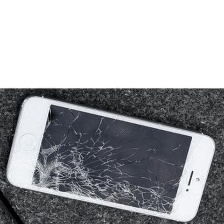phone: (3, 91, 217, 223)
